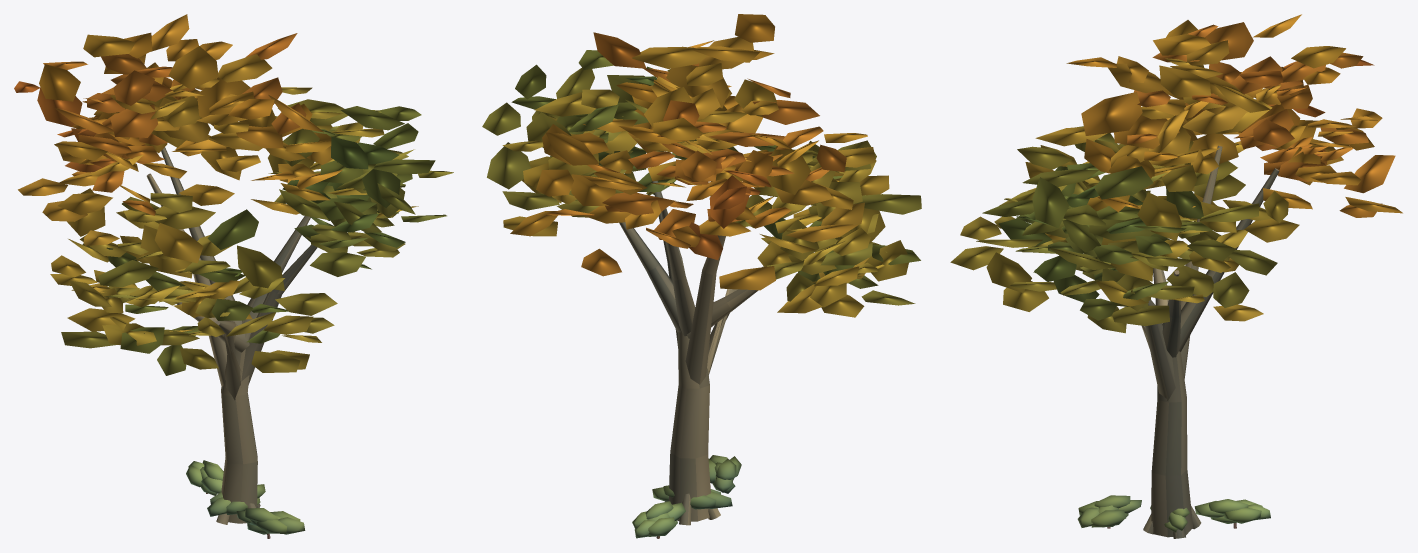
Rendered from ART_TownTree.lod.glb.
The picture shows the model from 3 angles, left to right: view 1: azimuth 30°, elevation 25°; view 2: azimuth 150°, elevation 25°; view 3: azimuth 270°, elevation 25°; orthographic projection. The views are drawn at different scales.
Visible parts, largest first — view 1: ART_TownTree; view 2: ART_TownTree; view 3: ART_TownTree.
Part boxes in pixels (left/top/right/bottom): ART_TownTree: left=14, top=14, right=453, bottom=538; ART_TownTree: left=482, top=14, right=921, bottom=538; ART_TownTree: left=950, top=14, right=1402, bottom=538.
Bounding box in the file's own units: 8.68 × 10.39 × 8.97.
